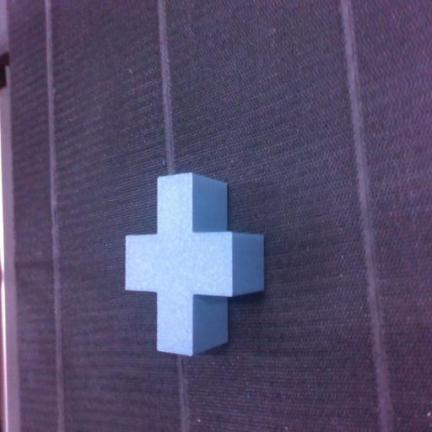cross: (126, 173, 264, 355)
